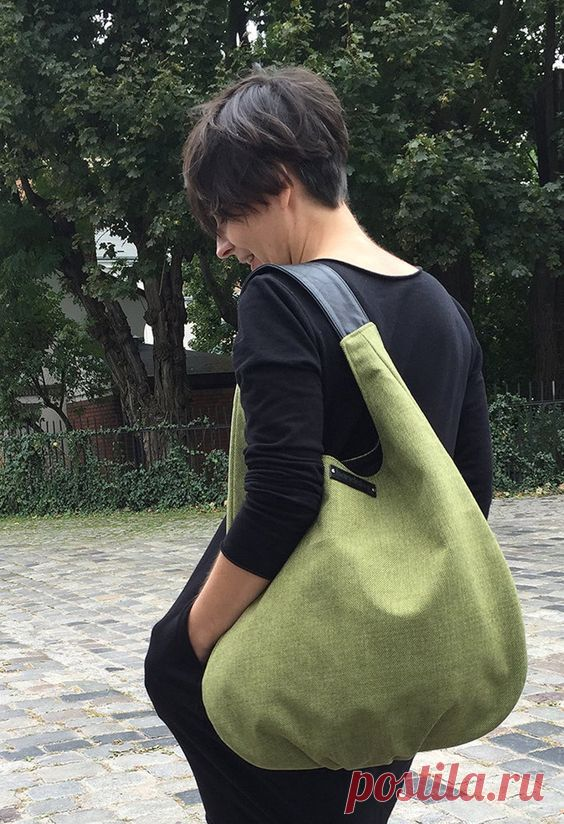cuero: (255, 259, 371, 338)
